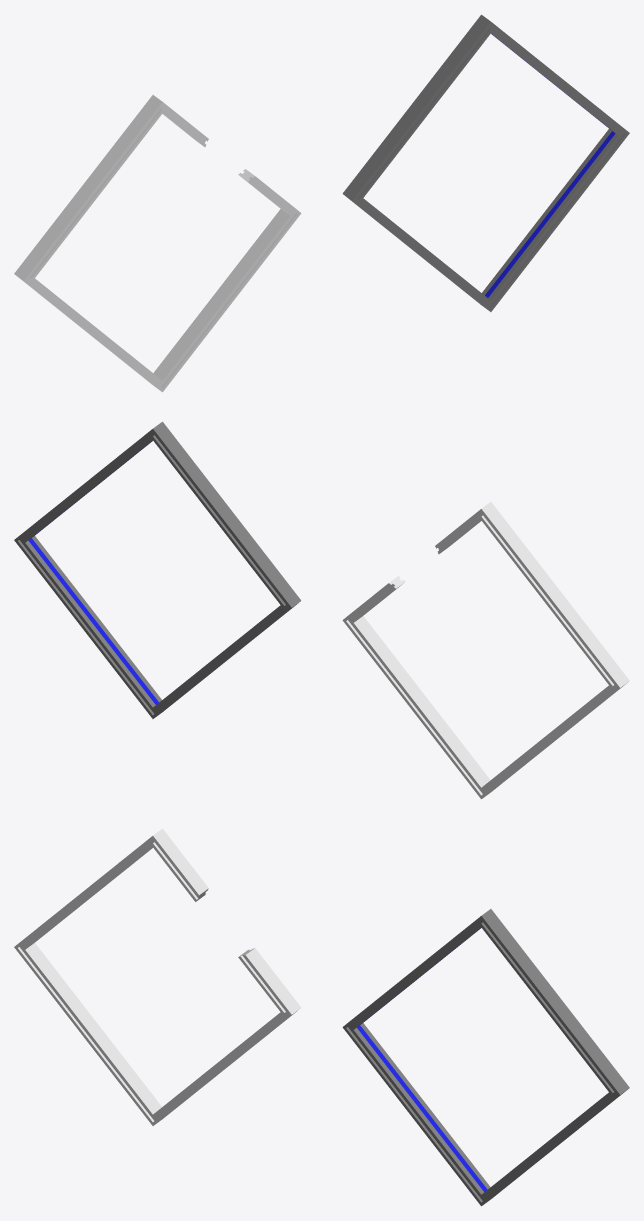
The model's file is AnillosParaTexturizar.FBX.
3 views of the same model, one above another, from view 1: azimuth 30°, elevation 25°; view 2: azimuth 150°, elevation 25°; view 3: azimuth 330°, elevation 25° (orthographic).
Visible parts, largest first — view 1: Box001, Box002; view 2: Box001, Box002; view 3: Box001, Box002.
Boxes of the visible parts, x1=… form: Box001: x1=342, y1=14, x2=629, y2=311; Box002: x1=14, y1=95, x2=301, y2=392; Box001: x1=14, y1=421, x2=301, y2=718; Box002: x1=342, y1=502, x2=629, y2=799; Box001: x1=342, y1=909, x2=629, y2=1206; Box002: x1=14, y1=828, x2=301, y2=1125.
Bounding box in the file's own units: 4252 × 1949 × 118.
